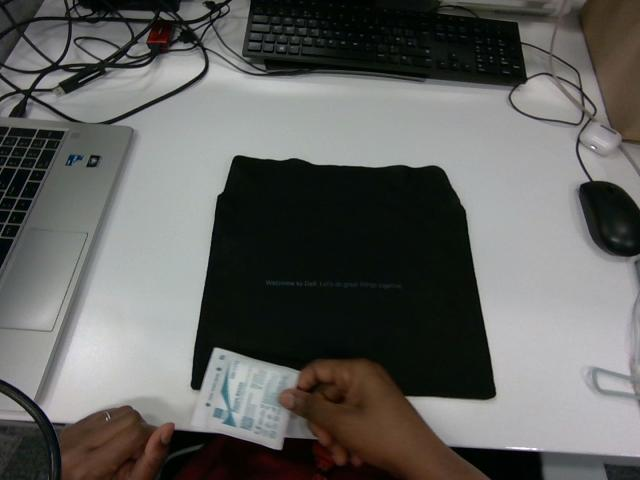gauze: (192, 348, 298, 449)
